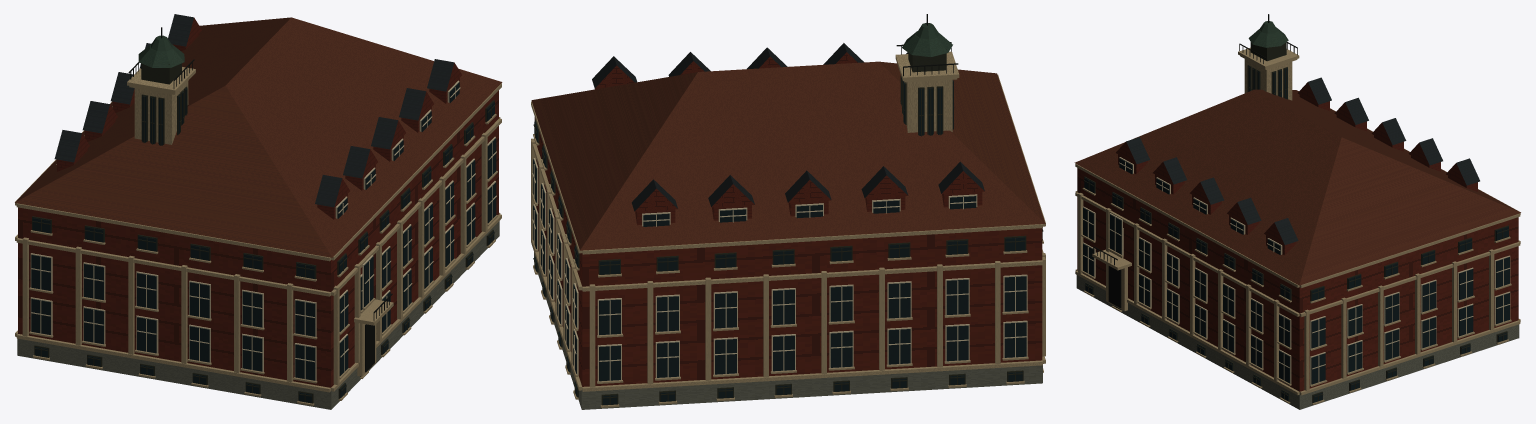
3 views of the same model, side by side, from view 1: azimuth 30°, elevation 25°; view 2: azimuth 150°, elevation 25°; view 3: azimuth 270°, elevation 25° (orthographic). The views are drawn at different scales.
Visible parts, largest first — view 1: gemeentebibliotheek-2, gemeentebibliotheek-0, gemeentebibliotheek-3, gemeentebibliotheek-5, gemeentebibliotheek-1, gemeentebibliotheek-8, gemeentebibliotheek-4, gemeentebibliotheek-6, gemeentebibliotheek-9, gemeentebibliotheek-7; view 2: gemeentebibliotheek-2, gemeentebibliotheek-0, gemeentebibliotheek-3, gemeentebibliotheek-5, gemeentebibliotheek-4, gemeentebibliotheek-1, gemeentebibliotheek-6, gemeentebibliotheek-8, gemeentebibliotheek-9; view 3: gemeentebibliotheek-2, gemeentebibliotheek-0, gemeentebibliotheek-3, gemeentebibliotheek-5, gemeentebibliotheek-1, gemeentebibliotheek-4, gemeentebibliotheek-8, gemeentebibliotheek-6, gemeentebibliotheek-7, gemeentebibliotheek-9.
Part boxes in pixels (x1,y1,x2,y2): gemeentebibliotheek-2: (15, 17, 502, 257); gemeentebibliotheek-0: (18, 17, 498, 387); gemeentebibliotheek-3: (15, 67, 501, 405); gemeentebibliotheek-5: (31, 82, 496, 402); gemeentebibliotheek-1: (17, 221, 499, 409); gemeentebibliotheek-8: (54, 14, 454, 207); gemeentebibliotheek-4: (30, 80, 496, 381); gemeentebibliotheek-6: (32, 59, 495, 403); gemeentebibliotheek-9: (138, 35, 184, 67); gemeentebibliotheek-7: (128, 27, 392, 372); gemeentebibliotheek-2: (531, 61, 1045, 250); gemeentebibliotheek-0: (534, 52, 1042, 386); gemeentebibliotheek-3: (531, 51, 1045, 407); gemeentebibliotheek-5: (533, 78, 1042, 404); gemeentebibliotheek-4: (532, 158, 1027, 381); gemeentebibliotheek-1: (534, 252, 1042, 409); gemeentebibliotheek-6: (533, 38, 1043, 405); gemeentebibliotheek-8: (592, 43, 984, 211); gemeentebibliotheek-9: (902, 23, 952, 56); gemeentebibliotheek-2: (1074, 89, 1520, 285); gemeentebibliotheek-0: (1077, 82, 1518, 391); gemeentebibliotheek-3: (1075, 47, 1520, 404); gemeentebibliotheek-5: (1083, 66, 1509, 402); gemeentebibliotheek-1: (1076, 275, 1519, 409); gemeentebibliotheek-4: (1082, 157, 1510, 384); gemeentebibliotheek-8: (1126, 77, 1479, 244); gemeentebibliotheek-6: (1084, 38, 1509, 402); gemeentebibliotheek-7: (1093, 14, 1297, 307); gemeentebibliotheek-9: (1248, 21, 1288, 47).
Size of the model in its own units: 53.5 by 32.3 by 51.72.
10 materials, 10 textured.
